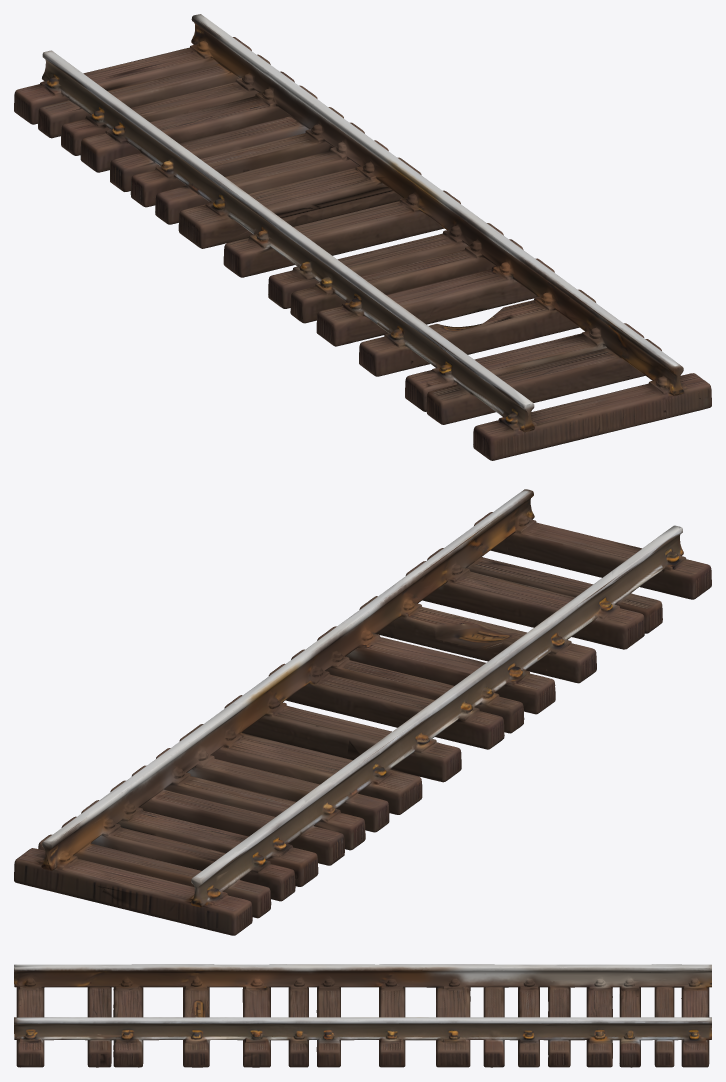
File: railway.glb
3 views of the same model, one above another, from view 1: azimuth 30°, elevation 25°; view 2: azimuth 150°, elevation 25°; view 3: azimuth 270°, elevation 25° (orthographic). The views are drawn at different scales.
Visible parts, largest first — view 1: material; view 2: material; view 3: material.
Boxes of the visible parts, x1,y1,x2,y2 form: material: (14,14,711,460); material: (14,489,711,935); material: (14,964,711,1067).
Size of the model in its own units: 0.311 by 0.0679 by 1.17.
1 material, 1 textured.
